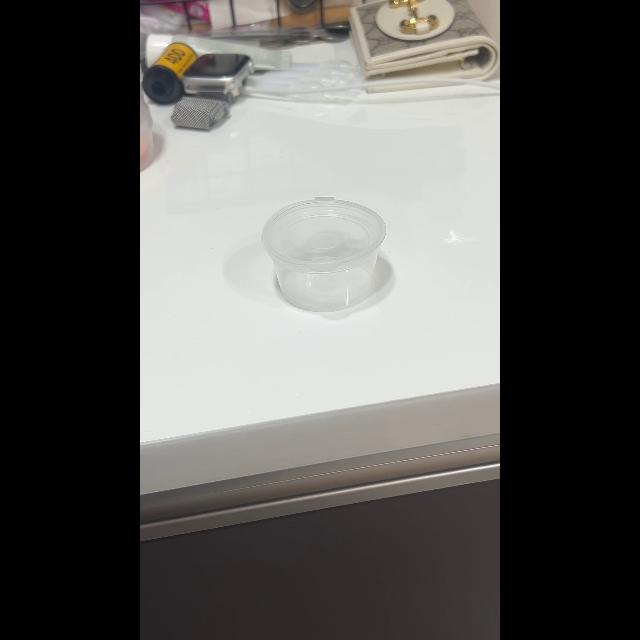clean: (263, 195, 392, 309)
